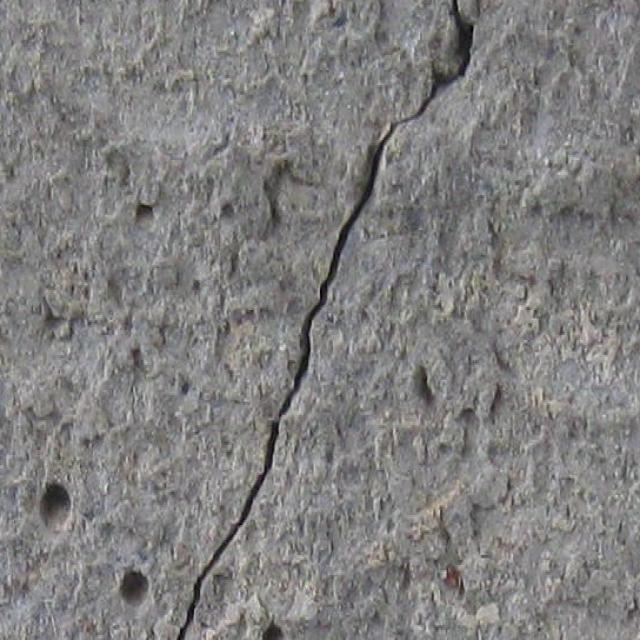Diagonal: (165, 0, 477, 640)
